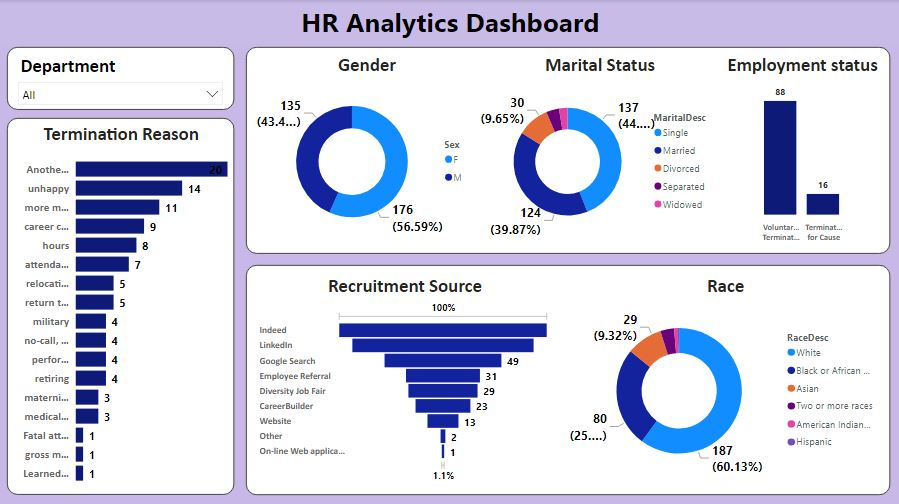

This screenshot's page, from the dashboard's own definition file:
{"tool":"powerbi","page":{"name":"Home","canvas":[1280,720],"ordinal":0},"visuals":[{"type":"barChart","title":"Termination Reason","fields":{"Category":["HRDataset.TermReason"]},"box":[350.1,66.6,912.8,293.4],"z":0},{"type":"textbox","box":[0,0,1279.8,66.6],"z":1000},{"type":"slicer","fields":{"Values":["HRDataset.Department"]},"box":[11.3,66.6,321.7,89.3],"z":2000},{"type":"barChart","title":"Termination Reason","fields":{"Category":["HRDataset.TermReason"],"Y":["CountNonNull(HRDataset.EmpID)"]},"box":[11.3,167.2,321.7,534.3],"z":3000},{"type":"donutChart","title":"Gender","fields":{"Y":["CountNonNull(HRDataset.EmpID)"],"Category":["HRDataset.Sex"]},"box":[364.3,75.1,314.6,276.4],"z":4000},{"type":"donutChart","title":"Marital Status","fields":{"Y":["CountNonNull(HRDataset.EmpID)"],"Category":["HRDataset.MaritalDesc"]},"box":[678.9,75.1,345.8,276.4],"z":5000},{"type":"columnChart","title":"Employment status","fields":{"Category":["HRDataset.EmploymentStatus"],"Y":["CountNonNull(HRDataset.EmpID)"]},"box":[1024.7,75.1,228.2,276.4],"z":6000},{"type":"barChart","title":"Termination Reason","fields":{"Category":["HRDataset.TermReason"]},"box":[350.1,375.6,912.8,326],"z":7000},{"type":"funnel","title":" Recruitment Source","fields":{"Category":["HRDataset.RecruitmentSource"],"Y":["CountNonNull(HRDataset.EmpID)"]},"box":[364.3,388.3,422.4,299.1],"z":8000},{"type":"donutChart","title":"Race","fields":{"Y":["CountNonNull(HRDataset.EmpID)"],"Category":["HRDataset.RaceDesc"]},"box":[806.5,388.3,446.5,299.1],"z":9000}]}

Visuals, with their boxes in screenshot pixels (x1, y1, x2, y2), scaled from the page's 1280x720 canvas onto the 899x504 screenshot:
"Termination Reason" barChart: [246,47,887,252]
textbox: [0,0,898,47]
slicer - HRDataset.Department: [8,47,234,109]
"Termination Reason" barChart: [8,117,234,491]
"Gender" donutChart: [256,53,477,246]
"Marital Status" donutChart: [477,53,720,246]
"Employment status" columnChart: [720,53,880,246]
"Termination Reason" barChart: [246,263,887,491]
" Recruitment Source" funnel: [256,272,553,481]
"Race" donutChart: [566,272,880,481]
